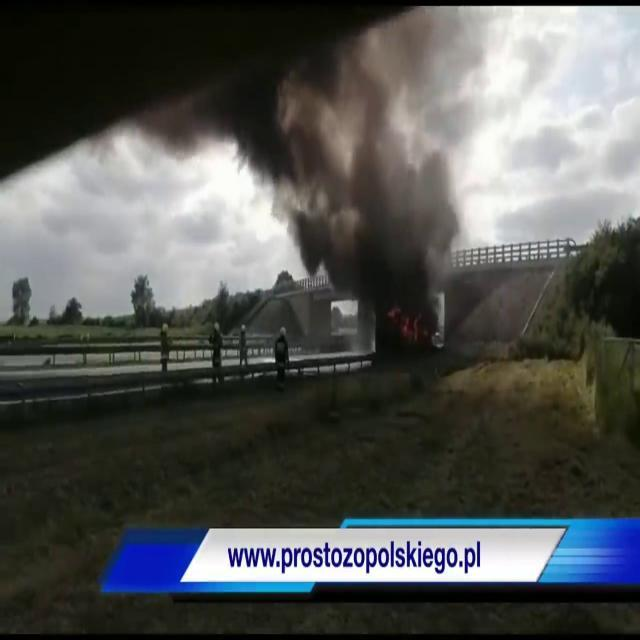Smoke: (250, 4, 480, 336)
